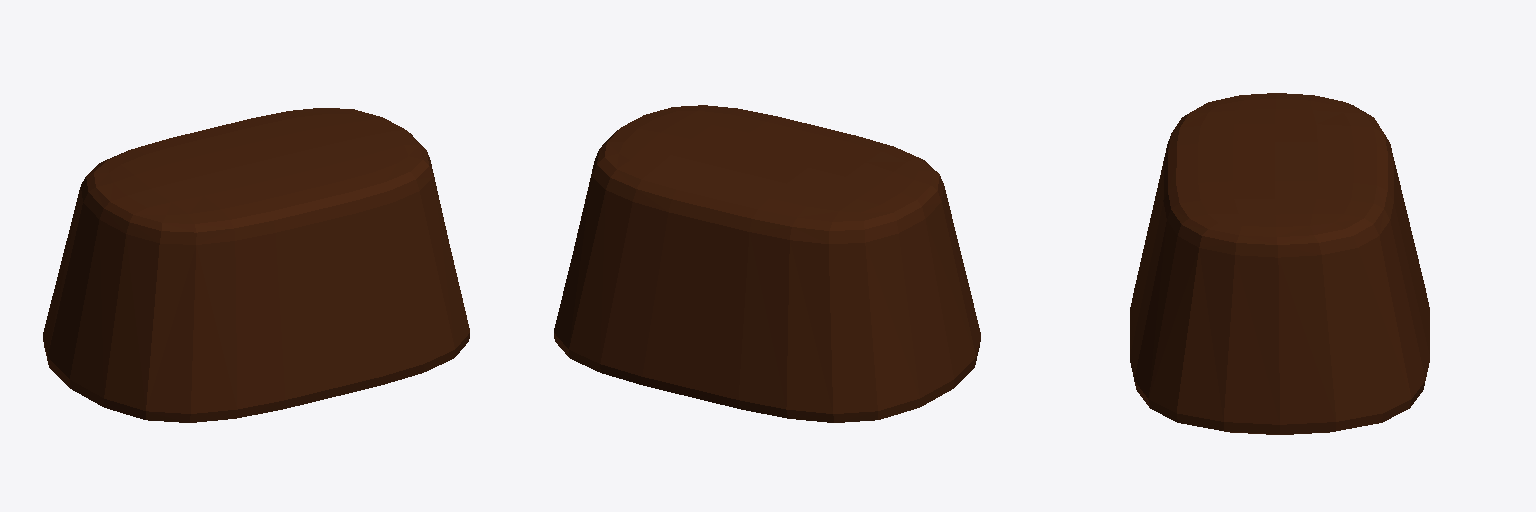
Rendered from RockPlatforms_Large.obj.
3 views of the same model, side by side, from view 1: azimuth 30°, elevation 25°; view 2: azimuth 150°, elevation 25°; view 3: azimuth 270°, elevation 25° (orthographic).
Visible parts, largest first — view 1: RockPlatforms_Large_Cube.381; view 2: RockPlatforms_Large_Cube.381; view 3: RockPlatforms_Large_Cube.381.
Boxes of the visible parts, box(x1,y1,x2,y2) form: RockPlatforms_Large_Cube.381: box(43, 108, 469, 422); RockPlatforms_Large_Cube.381: box(554, 105, 980, 422); RockPlatforms_Large_Cube.381: box(1130, 93, 1429, 434).
Bounding box in the file's own units: 7.38 × 3.63 × 5.16.